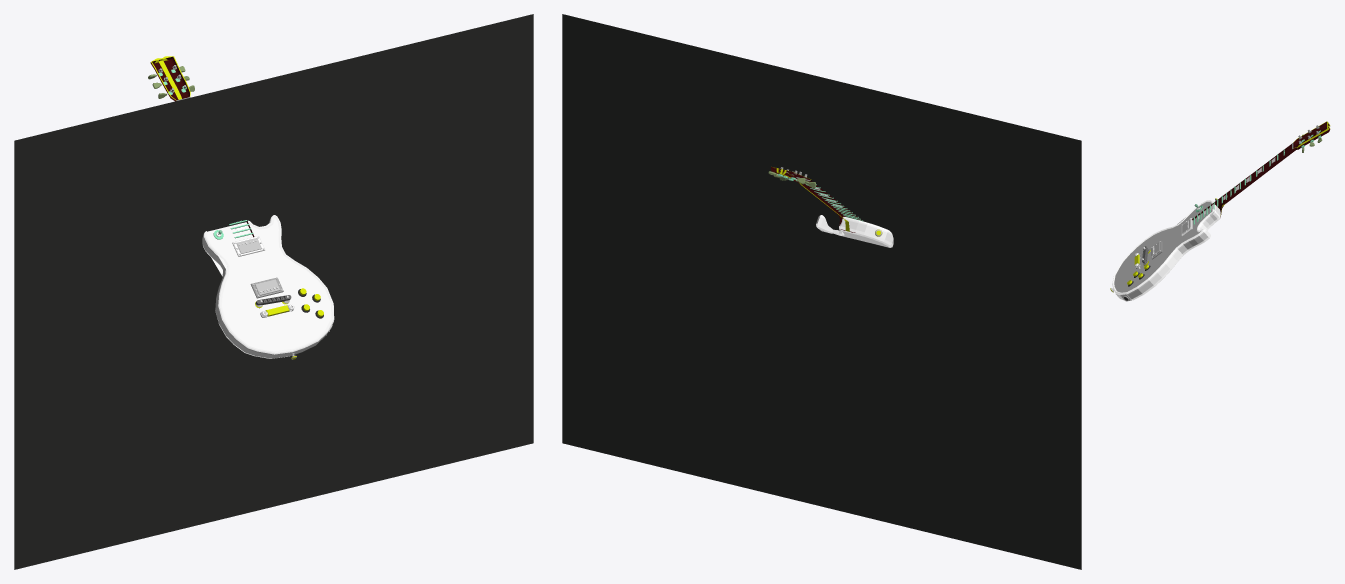
File: GuitarModel.glb
3 renders of one model, left to right at view 1: azimuth 30°, elevation 25°; view 2: azimuth 150°, elevation 25°; view 3: azimuth 270°, elevation 25°, orthographic. The views are drawn at different scales.
Parts seen in each view (by area): view 1: Plane, Cube (×2), Plane.023; view 2: Plane, Cube, Plane.023; view 3: Cube (×3), Plane.023.
Boxes of the visible parts, <box> form: Plane: <box>14,14,533,569</box>; Cube (×2): <box>202,215,334,358</box>; Plane.023: <box>150,56,254,237</box>; Plane: <box>562,14,1081,569</box>; Cube: <box>816,215,893,247</box>; Plane.023: <box>771,167,861,232</box>; Cube (×3): <box>1112,200,1220,300</box>; Plane.023: <box>1192,122,1330,220</box>.
Bounding box in the file's own units: 8.09 × 6.39 × 3.65.
18 materials, 1 textured.
